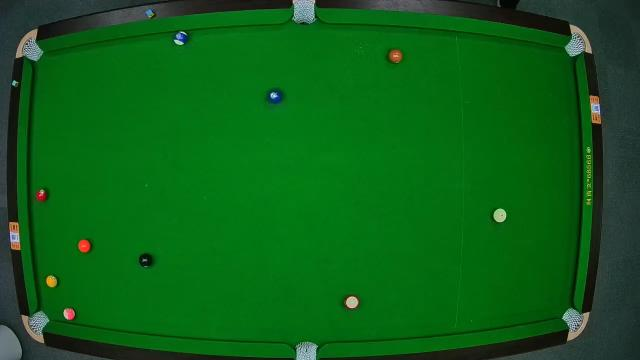bag1: (20, 37, 44, 63)
bag2: (291, 0, 318, 24)
bag3: (566, 34, 588, 56)
bag4: (26, 310, 50, 336)
bag5: (293, 340, 319, 360)
bag6: (561, 307, 587, 337)
ball0: (493, 208, 507, 224)
ball1: (46, 274, 59, 290)
ball11: (344, 295, 360, 311)
ball12: (173, 30, 189, 48), (62, 306, 76, 322)
ball2: (266, 88, 284, 105)
ball3: (35, 189, 49, 203)
ball5: (78, 239, 92, 255)
ball7: (388, 48, 404, 66)
ball8: (138, 253, 154, 269)
